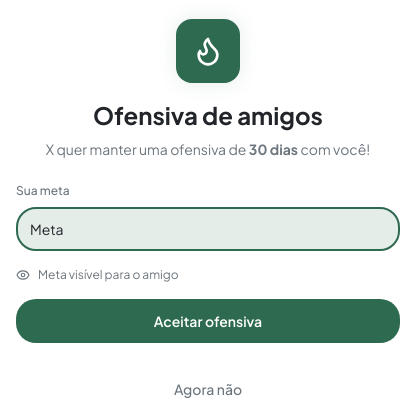
Test case: Invite Page › shows visibility toggle
The image size is (417, 415).
Click the button "Meta visível para o amigo".
click(97, 275)  # box [16,267,179,283]
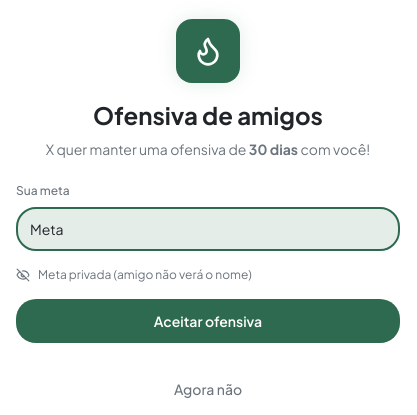
Check: the button "Meta privada (amigo não verá o nome)" is shown, box [16,267,252,283]
